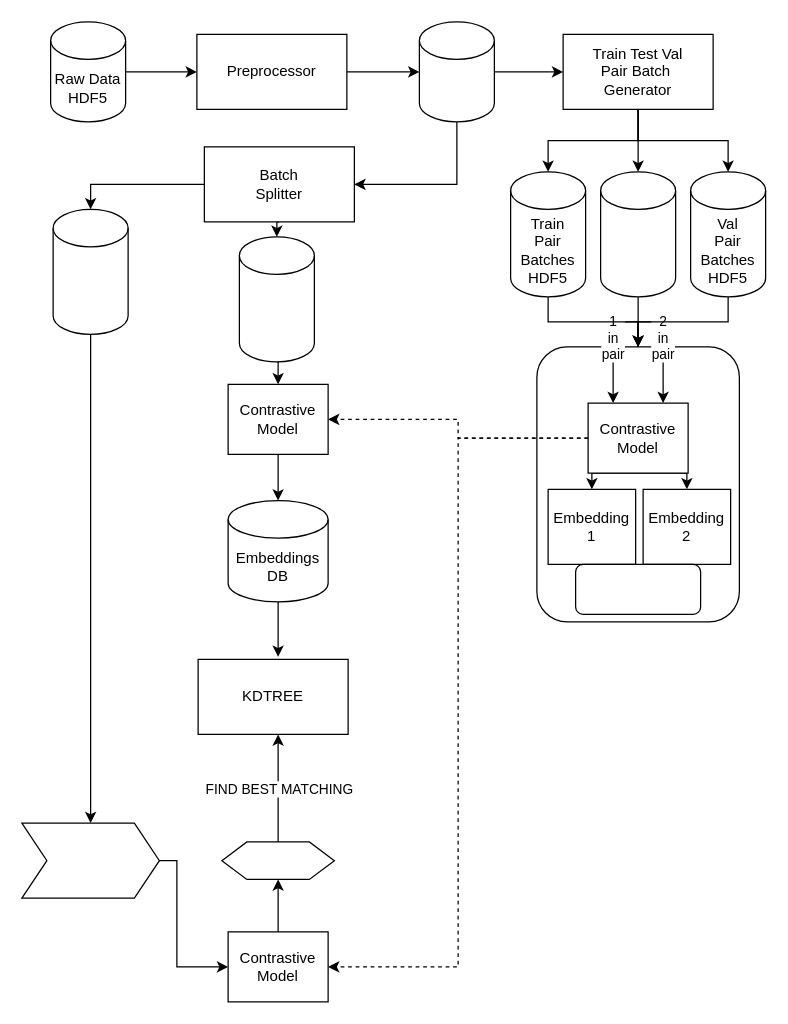
Some shapes in this 788 by 1024 pixel diagram are drawn without their labels. Here are the shapes that lost their labels. From the top down, the centre of each, then its label:
the point at 456,71: Processed Data HDF5
the point at 637,234: Test Pair Batches HDF5
the point at 90,271: Tagged Test Data DAT
the point at 276,299: Tagged Train Data DAT
the point at 637,588: Contrastive Loss
the point at 90,860: Unseen IMU Seq.
the point at 277,860: New IMU Embedding
